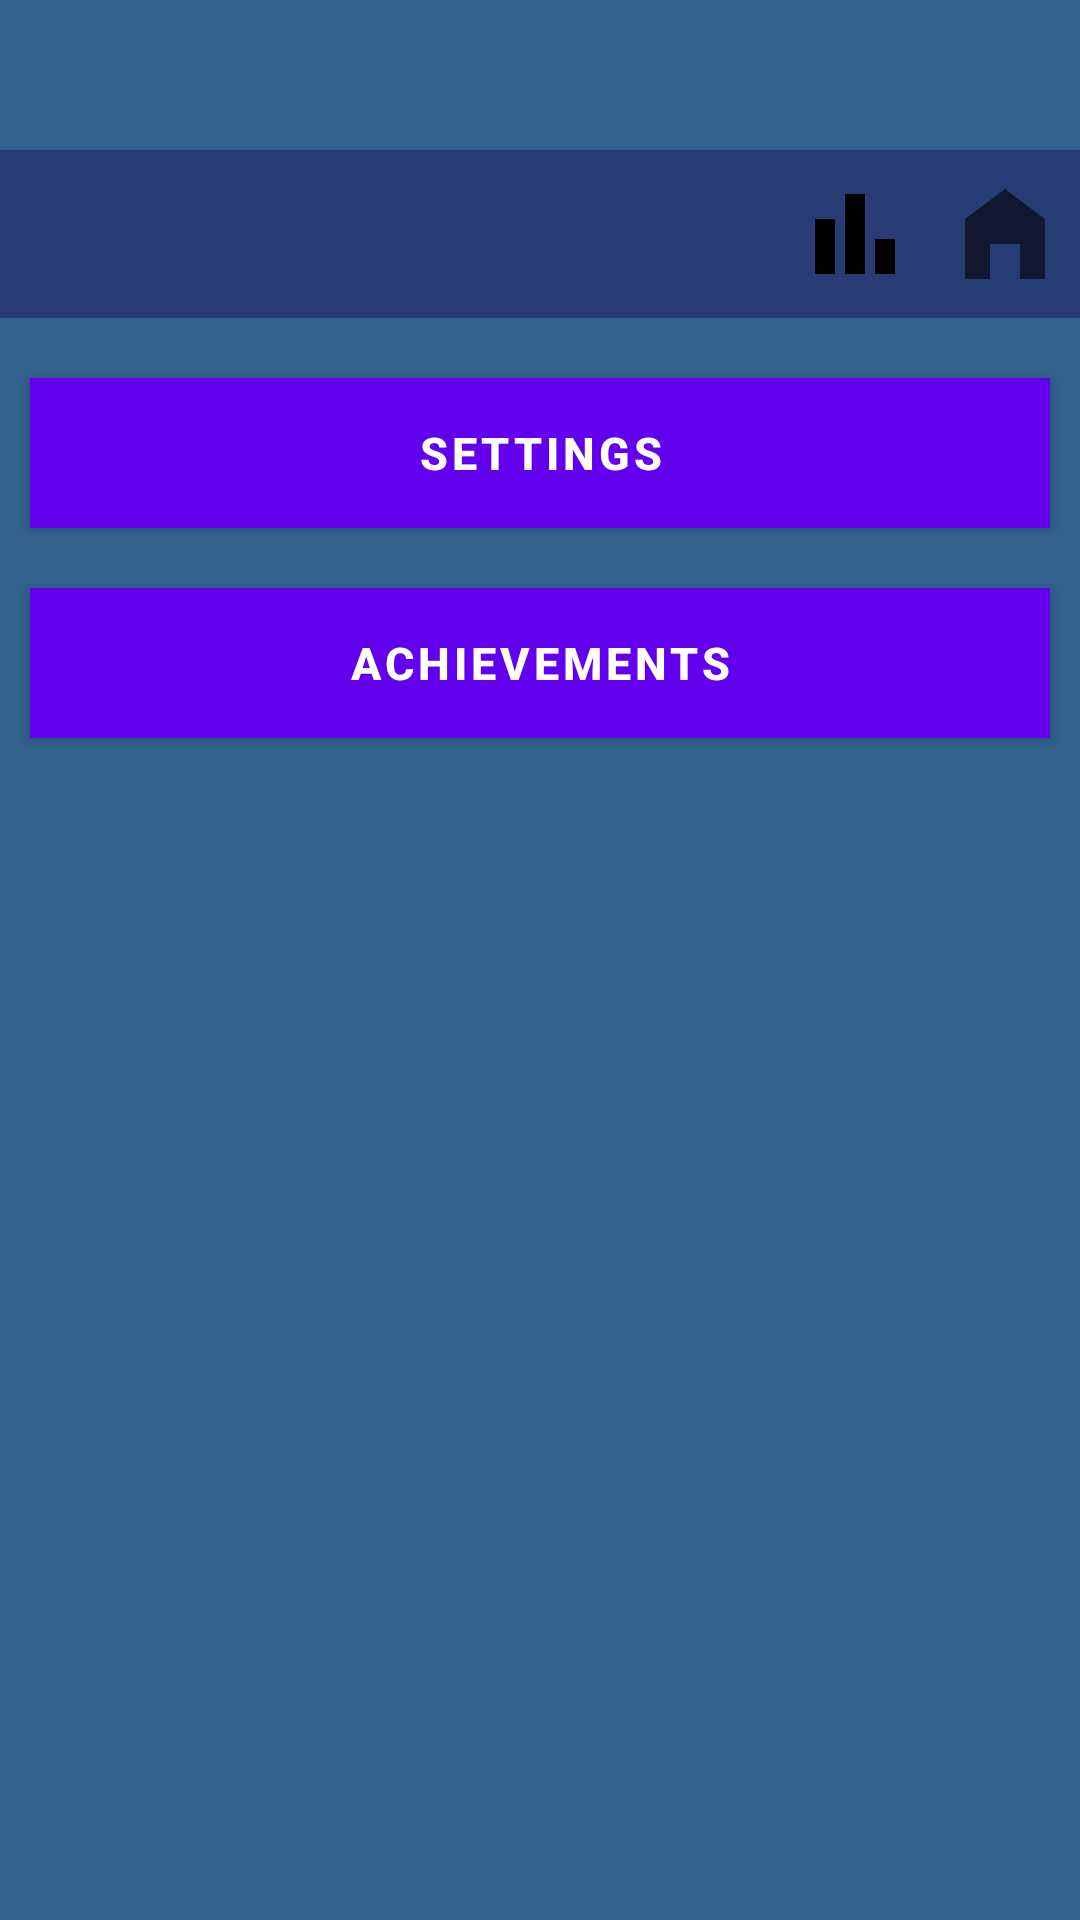

Icon bounding boxes for this 1080 x 1920 phone screenshot, format region(x1, y1, x2, y2):
Home: region(965, 189, 1045, 279)
Statistics: region(815, 194, 895, 274)
